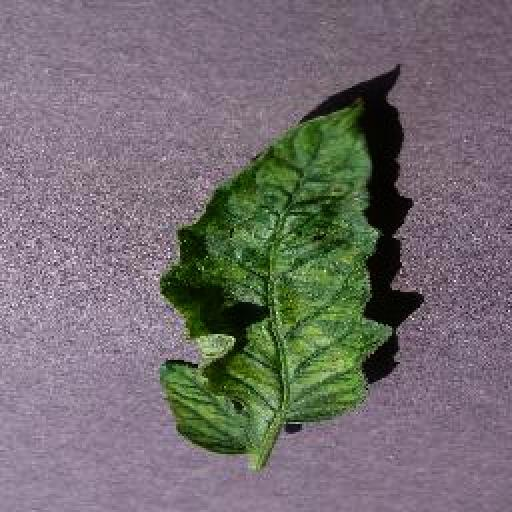Mosaic Virus: (157, 97, 395, 455)
